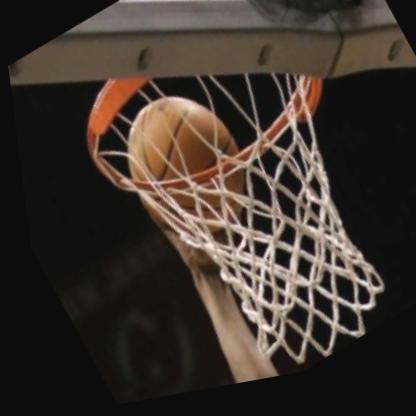basketball: (93, 64, 276, 279)
rim: (37, 0, 412, 411)
